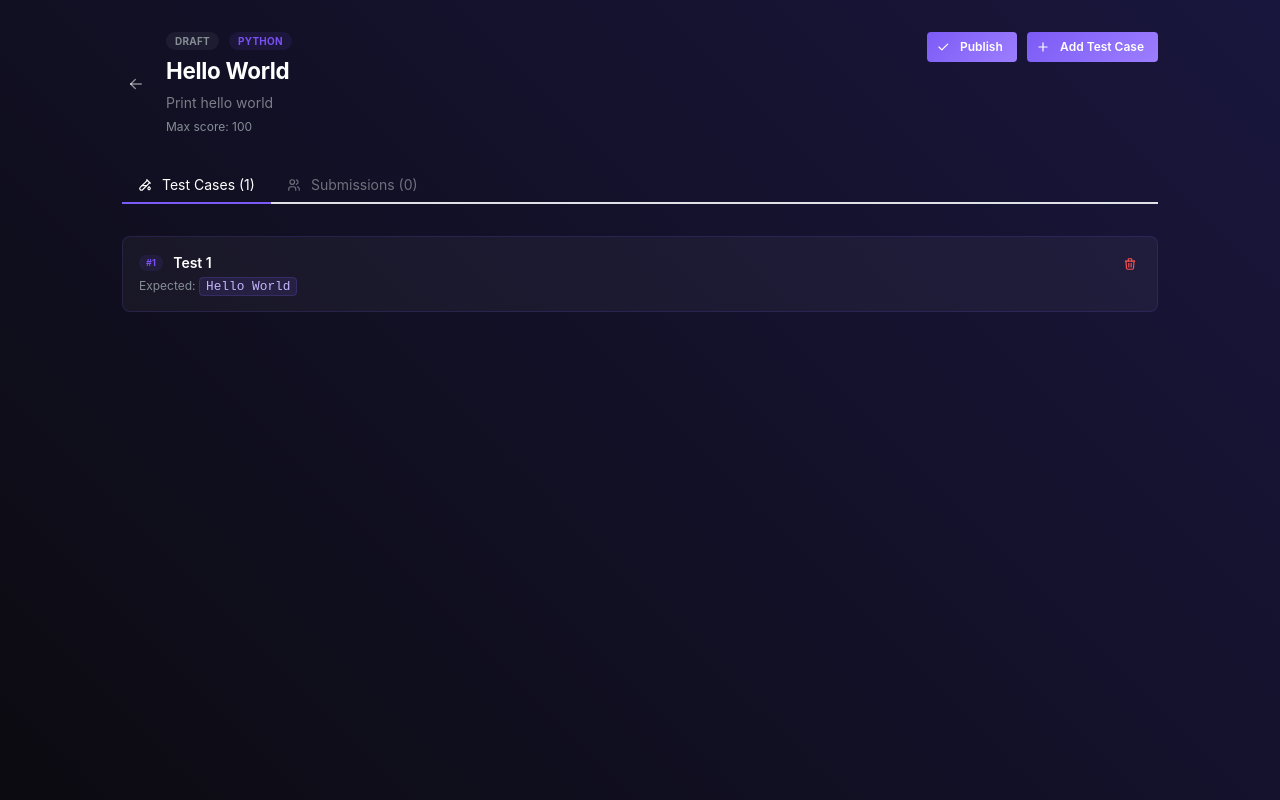
Scenario: TeacherAssignmentPage Component tests › should show empty state when no submissions
Click the tab "Submissions (0)": (352, 186) 271,168 -> 434,204
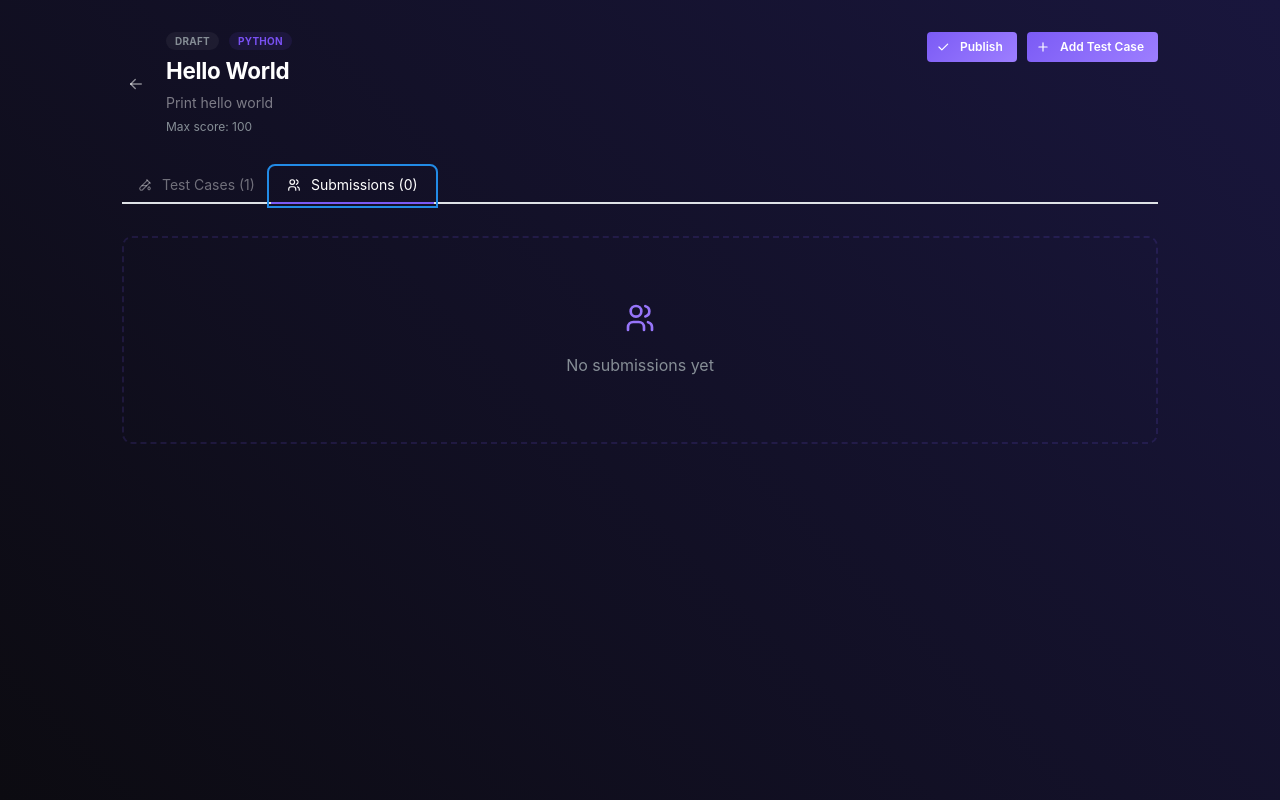
Now the text "No submissions yet" is shown, box 566,355 -> 714,375
